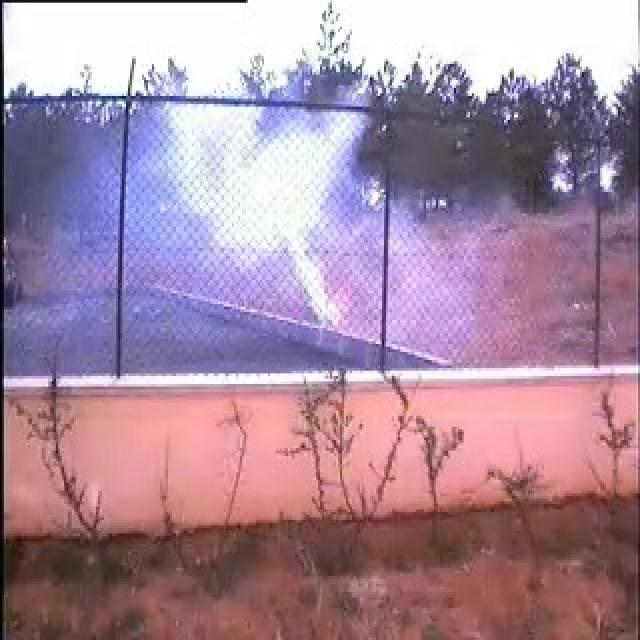Smoke: (126, 95, 434, 368)
